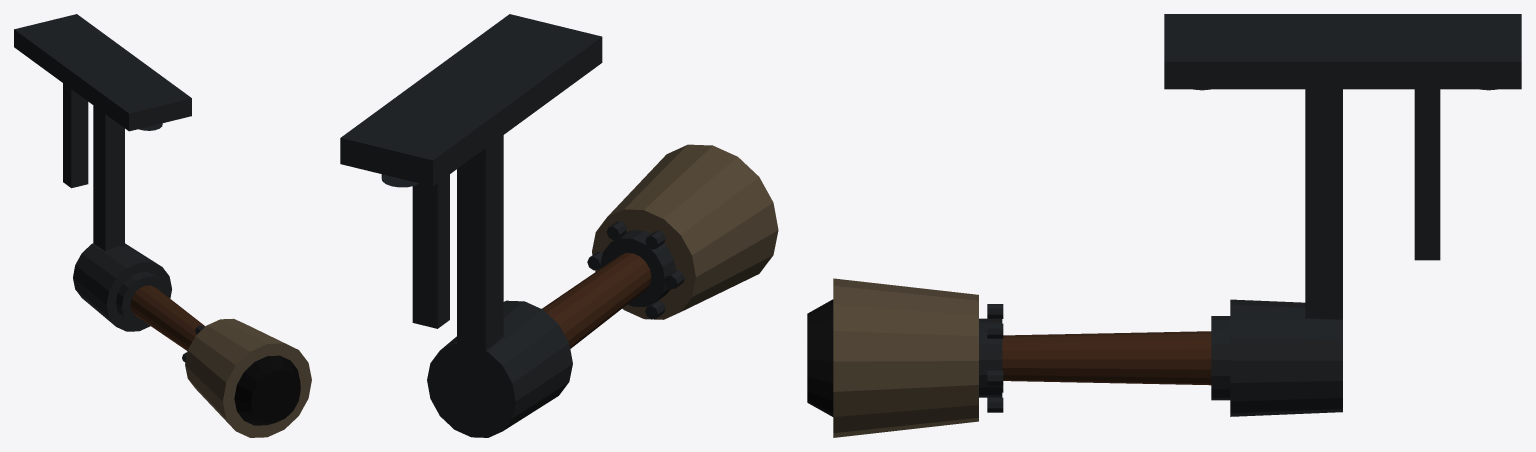
3 renders of one model, left to right at view 1: azimuth 30°, elevation 25°; view 2: azimuth 150°, elevation 25°; view 3: azimuth 270°, elevation 25°, orthographic. The views are drawn at different scales.
Size of the model in its own units: 0.34 by 0.9225 by 1.52.
